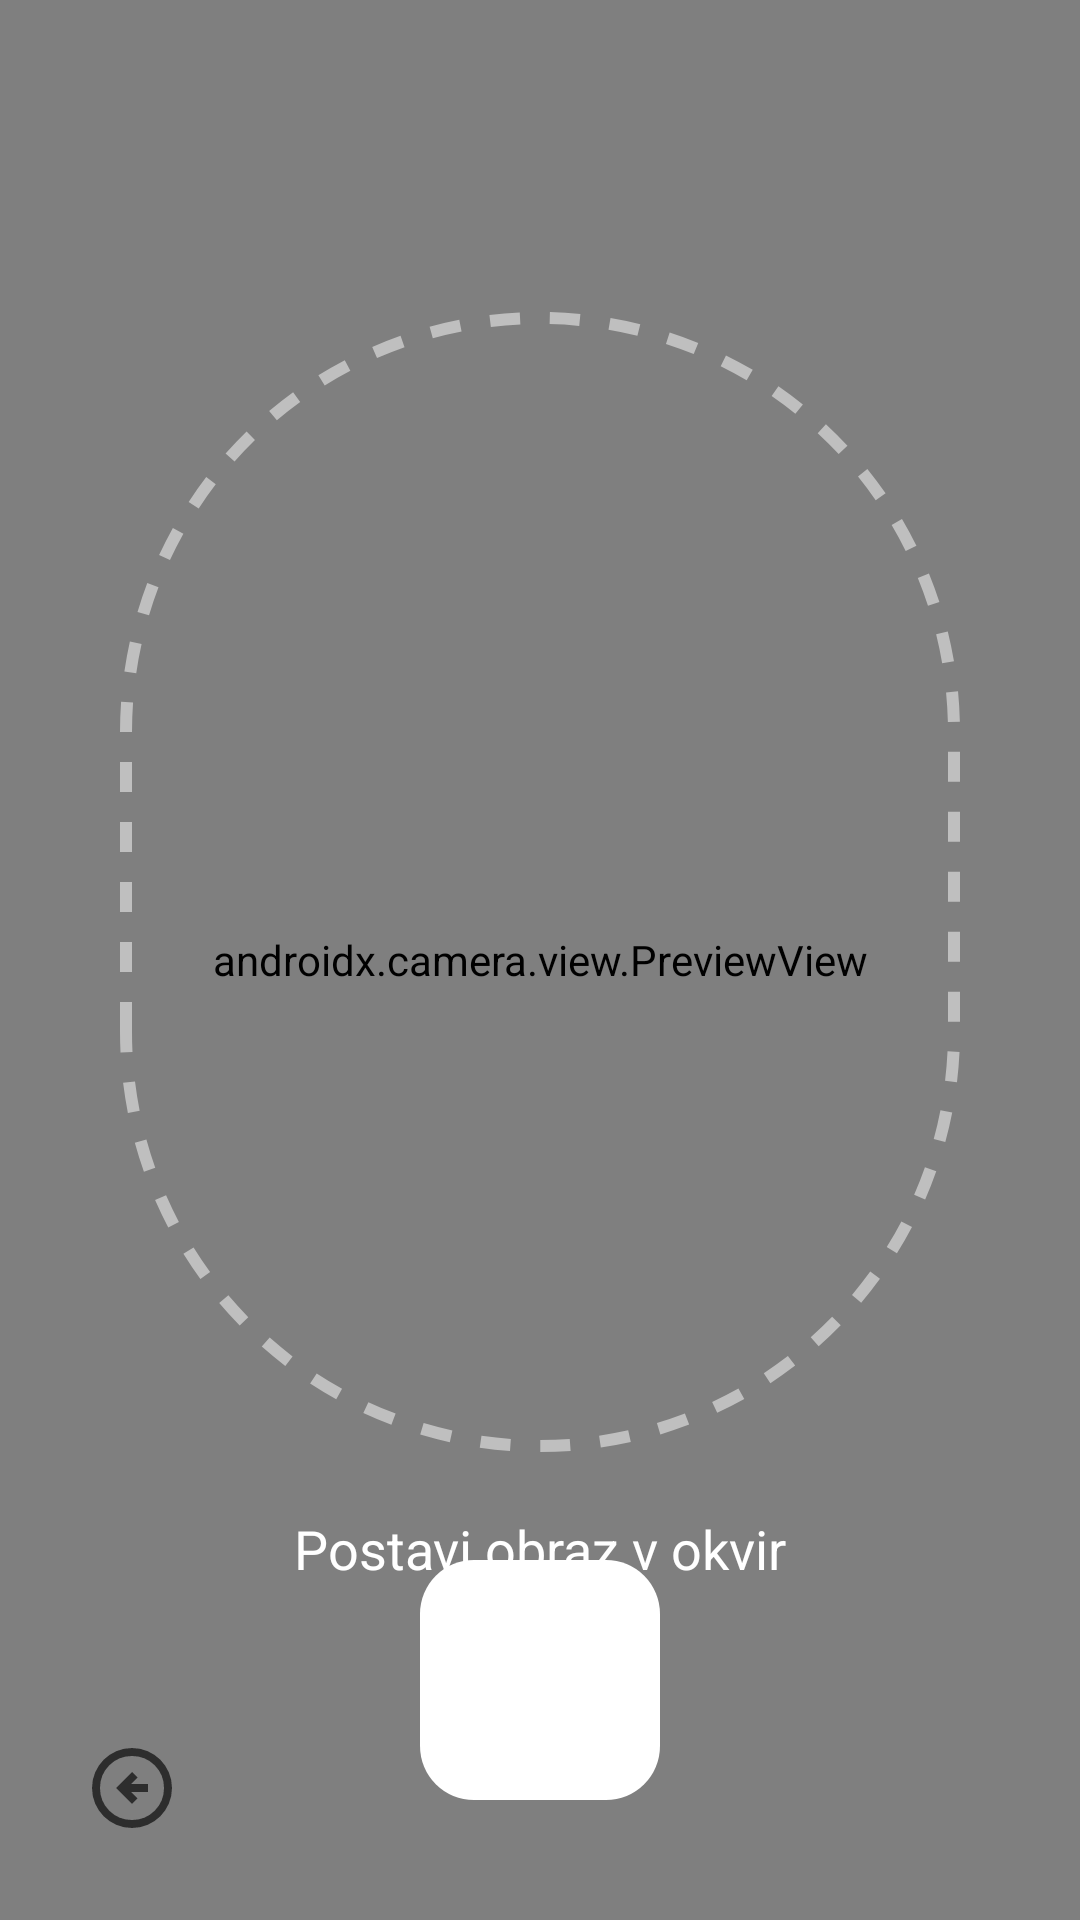

Locate icon controls on the screen. Image size 1080w x 1920h, boxes as (x1, y1, x2, y2).
Nazaj: (92, 1748, 172, 1828)
